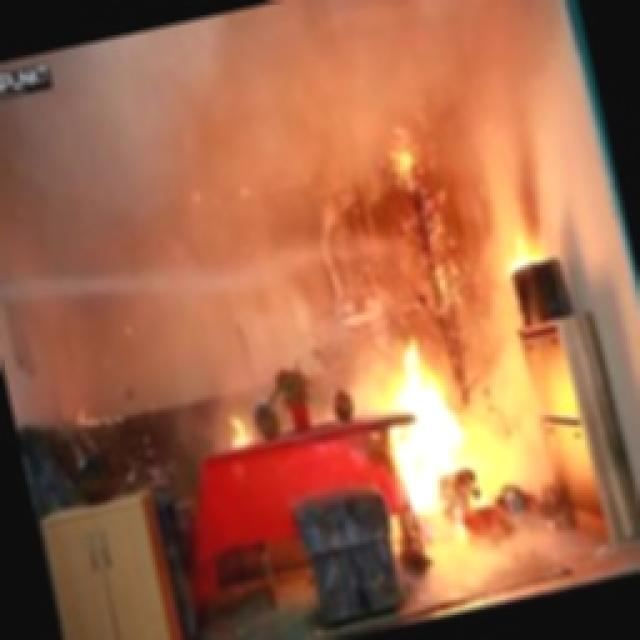fire: (331, 298, 541, 554)
